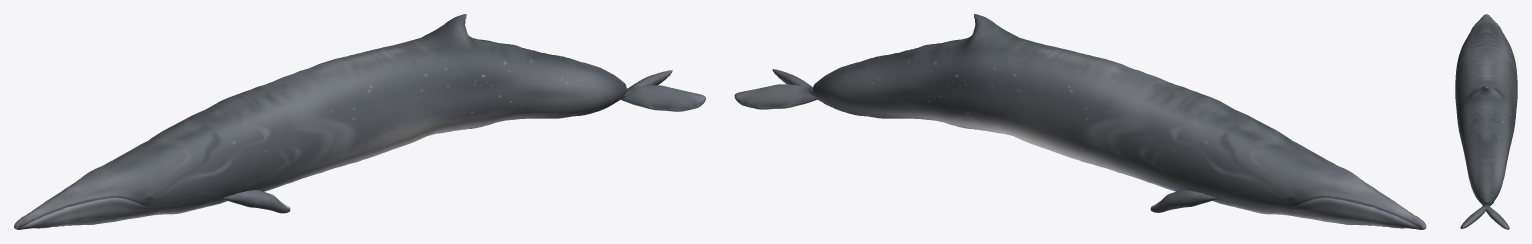
The model's file is sei-whale.glb.
3 renders of one model, left to right at view 1: azimuth 30°, elevation 25°; view 2: azimuth 150°, elevation 25°; view 3: azimuth 270°, elevation 25°, orthographic. The views are drawn at different scales.
Visible parts, largest first — view 1: mm_frame (32); view 2: mm_frame (32); view 3: mm_frame (32).
Part boxes in pixels (x1=…): mm_frame (32): x1=14, y1=14, x2=705, y2=229; mm_frame (32): x1=734, y1=14, x2=1426, y2=229; mm_frame (32): x1=1455, y1=14, x2=1517, y2=229.
Bounding box in the file's own units: 9.92 × 1.94 × 1.31.
Materials: 1 (1 with a texture image).
